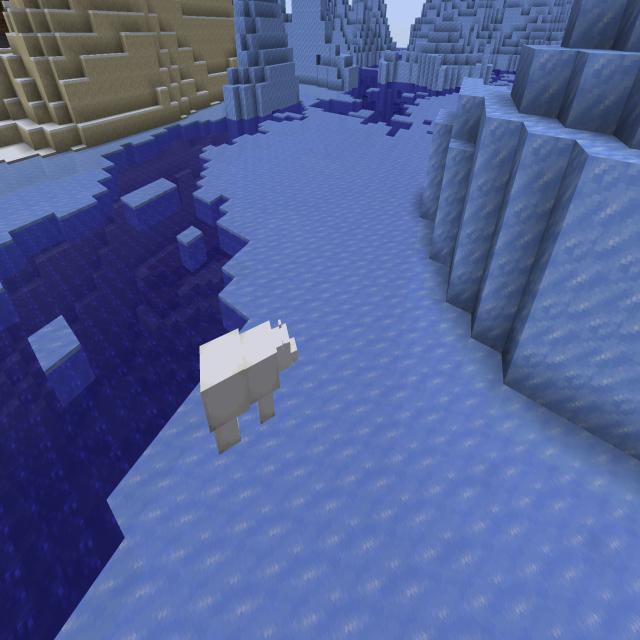Polar Bear: (195, 304, 302, 466)
